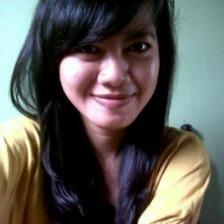Non hijab: (14, 1, 179, 224)
